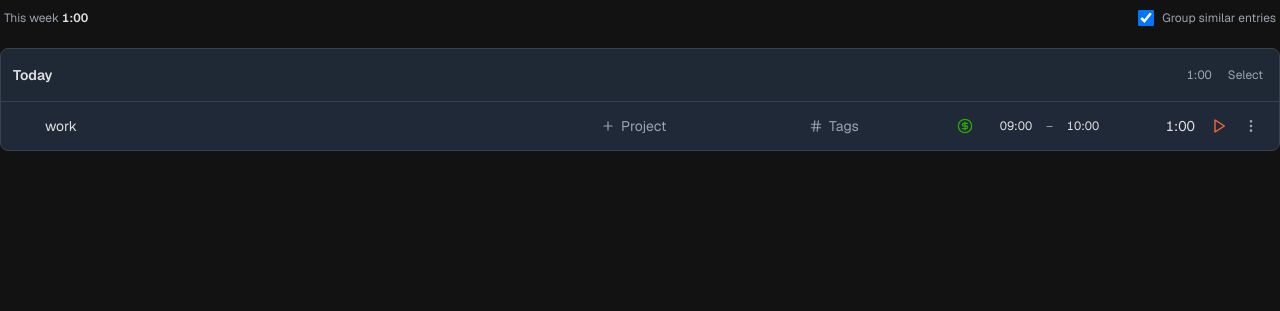
Test case: creating an entity from an entry row keeps it and the link › a new tag is saved, not just referenced
The image size is (1280, 311).
Click the button "Tags".
click(871, 126)  # box [801,110,941,142]
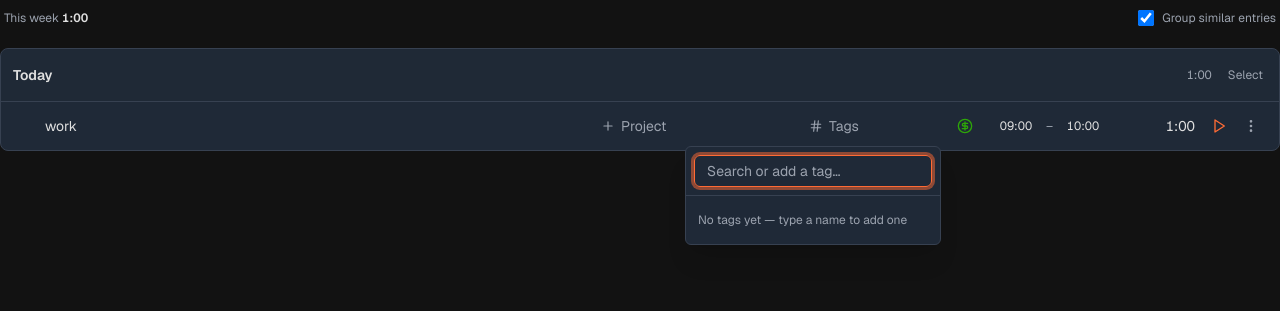
Type "focus" into the field with placeholder "Search or add a tag…".
click(813, 171); type("focus")  # box [694,155,932,187]
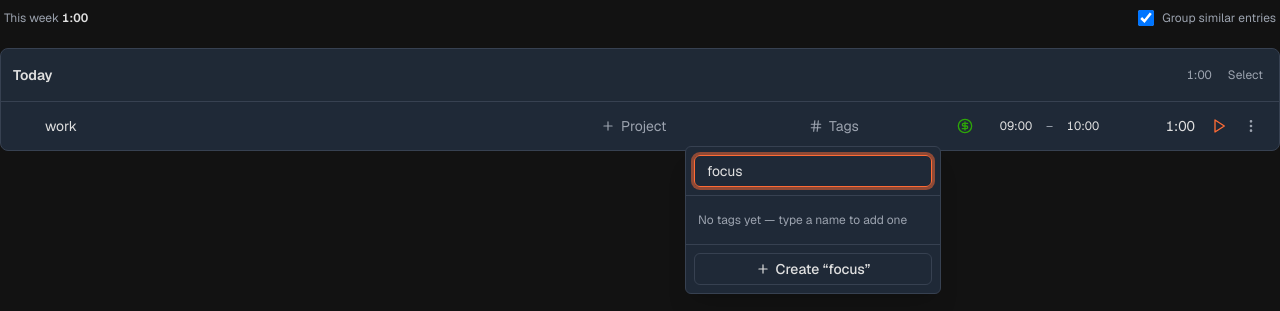
Click the button "Create “focus”".
click(813, 269)  # box [694,253,932,285]
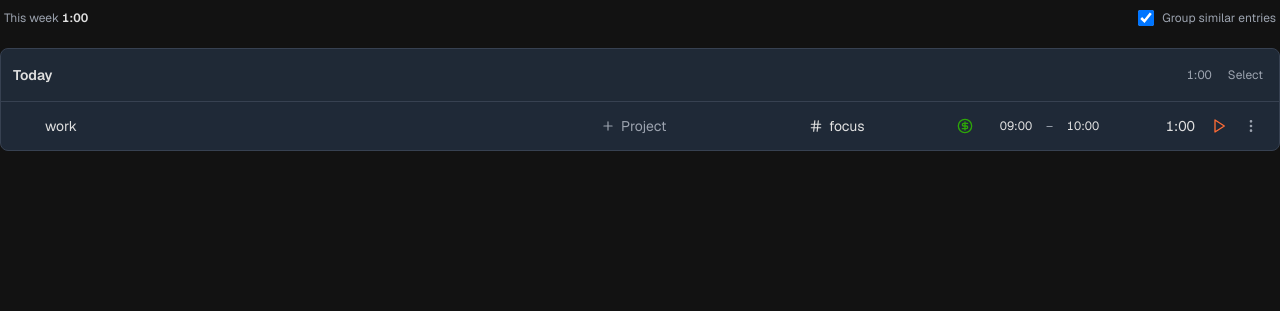
Expected: the text "focus" is shown, [829,116,864,136]
